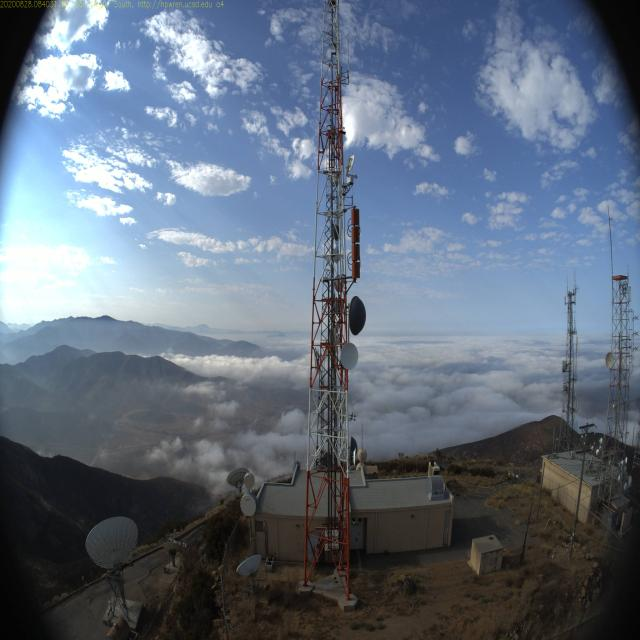smoke: (160, 331, 188, 367)
